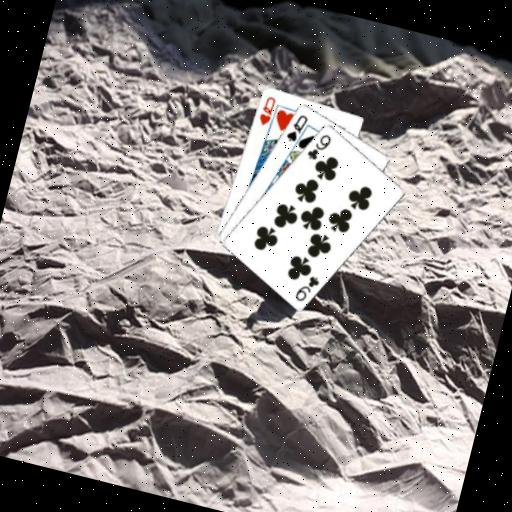9C: (303, 128, 334, 165), (291, 270, 322, 307)
QH: (255, 91, 278, 128)
QS: (282, 108, 311, 146)
